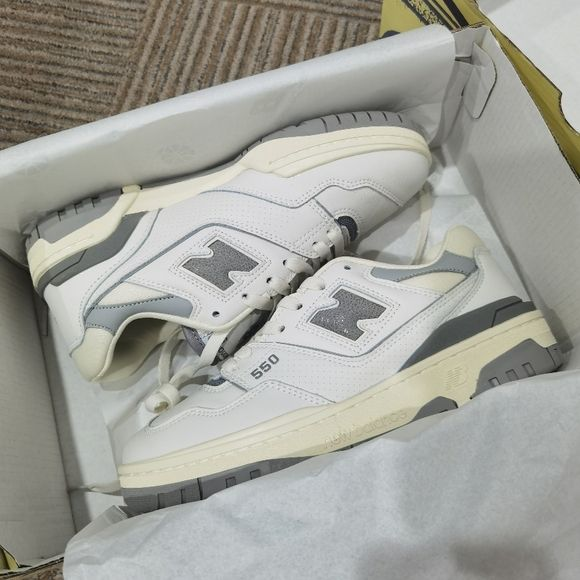new_balance_550_grey: (117, 226, 565, 514), (25, 109, 433, 382)
